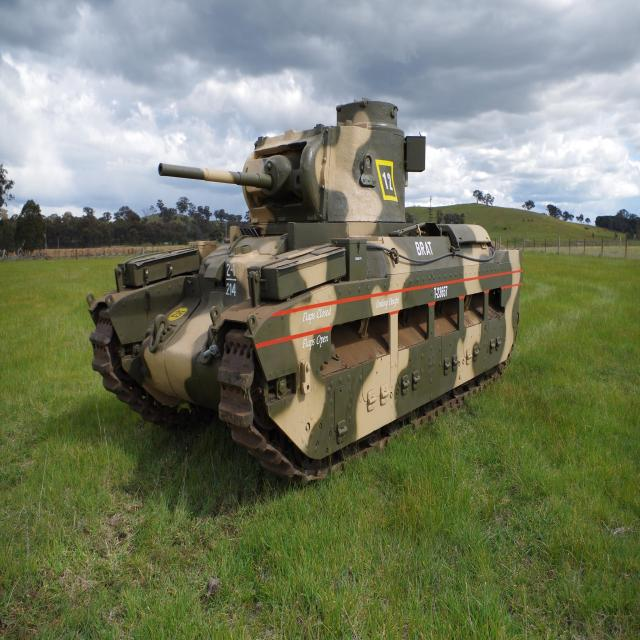Tanks: (97, 92, 533, 482)
